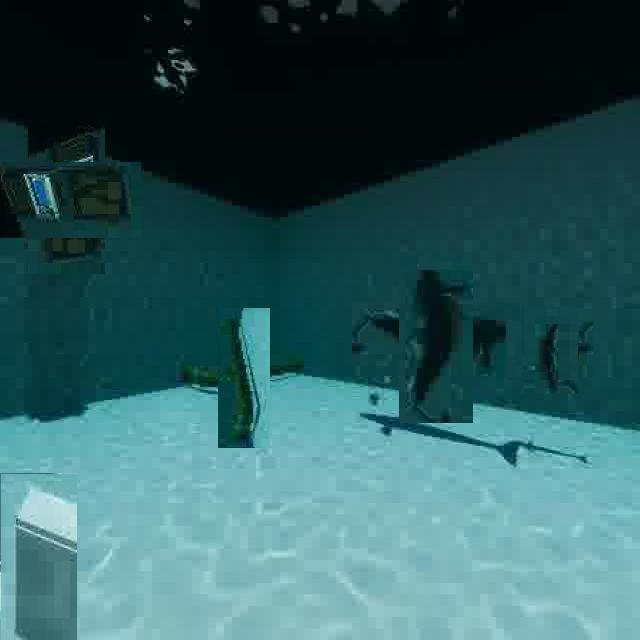Control Panel: (10, 142, 123, 256)
Docking Station: (0, 473, 77, 640)
Pipe: (196, 330, 292, 426)
Whale: (376, 278, 496, 399), (514, 314, 586, 388)
